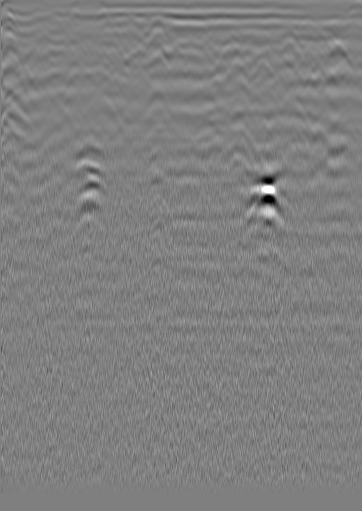가스: (73, 180, 108, 217)
상수: (327, 44, 347, 64)
오수: (31, 19, 51, 39)
우수: (233, 37, 253, 57)
